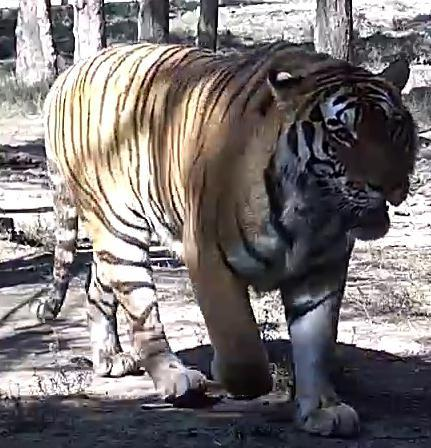tiger: (44, 40, 417, 435)
